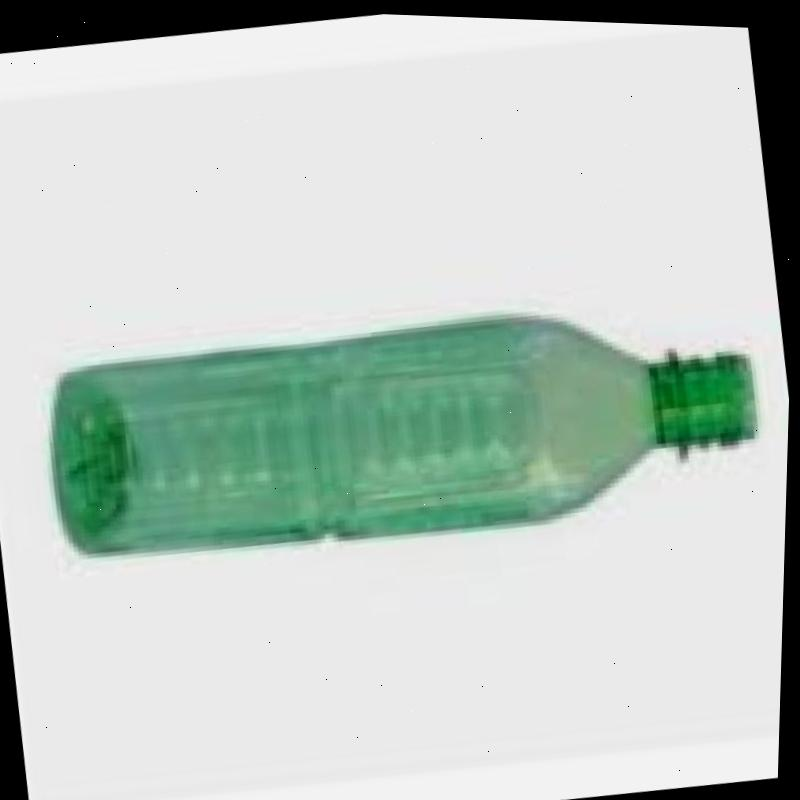botella: (45, 265, 774, 593)
